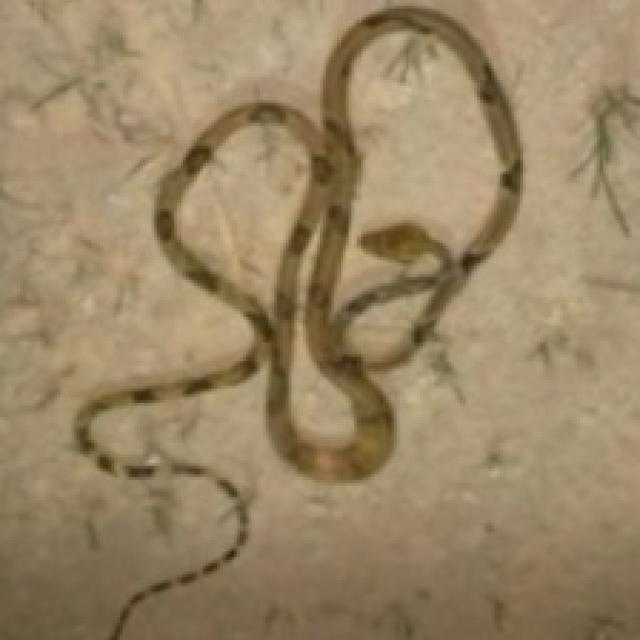dog-toothed cat snake: (74, 6, 520, 637)
